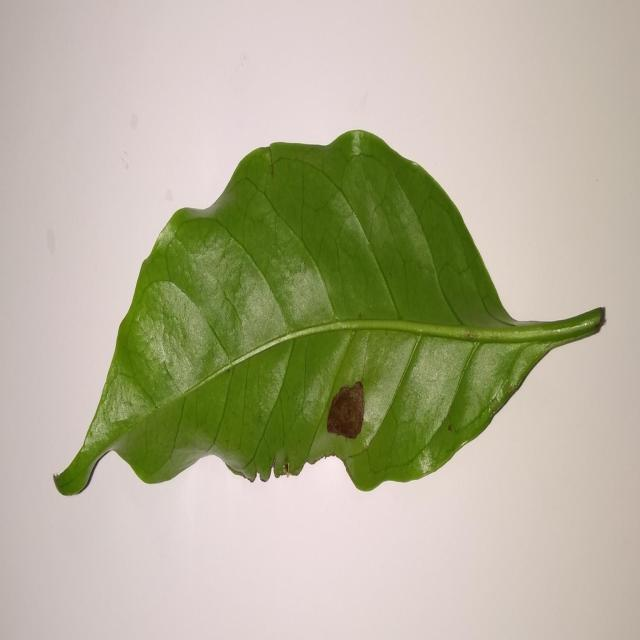Enfermedad-Antracnosis: (52, 131, 606, 500)
